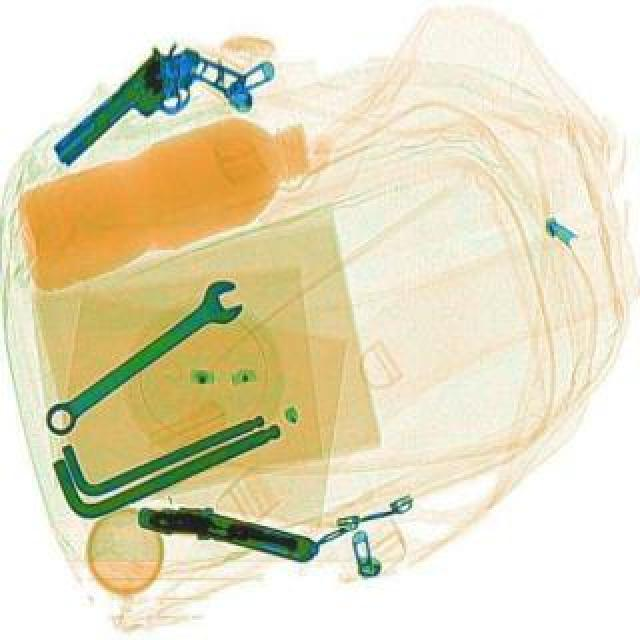gun: (48, 16, 252, 206), (136, 492, 328, 568)
scissors: (36, 270, 258, 444)
